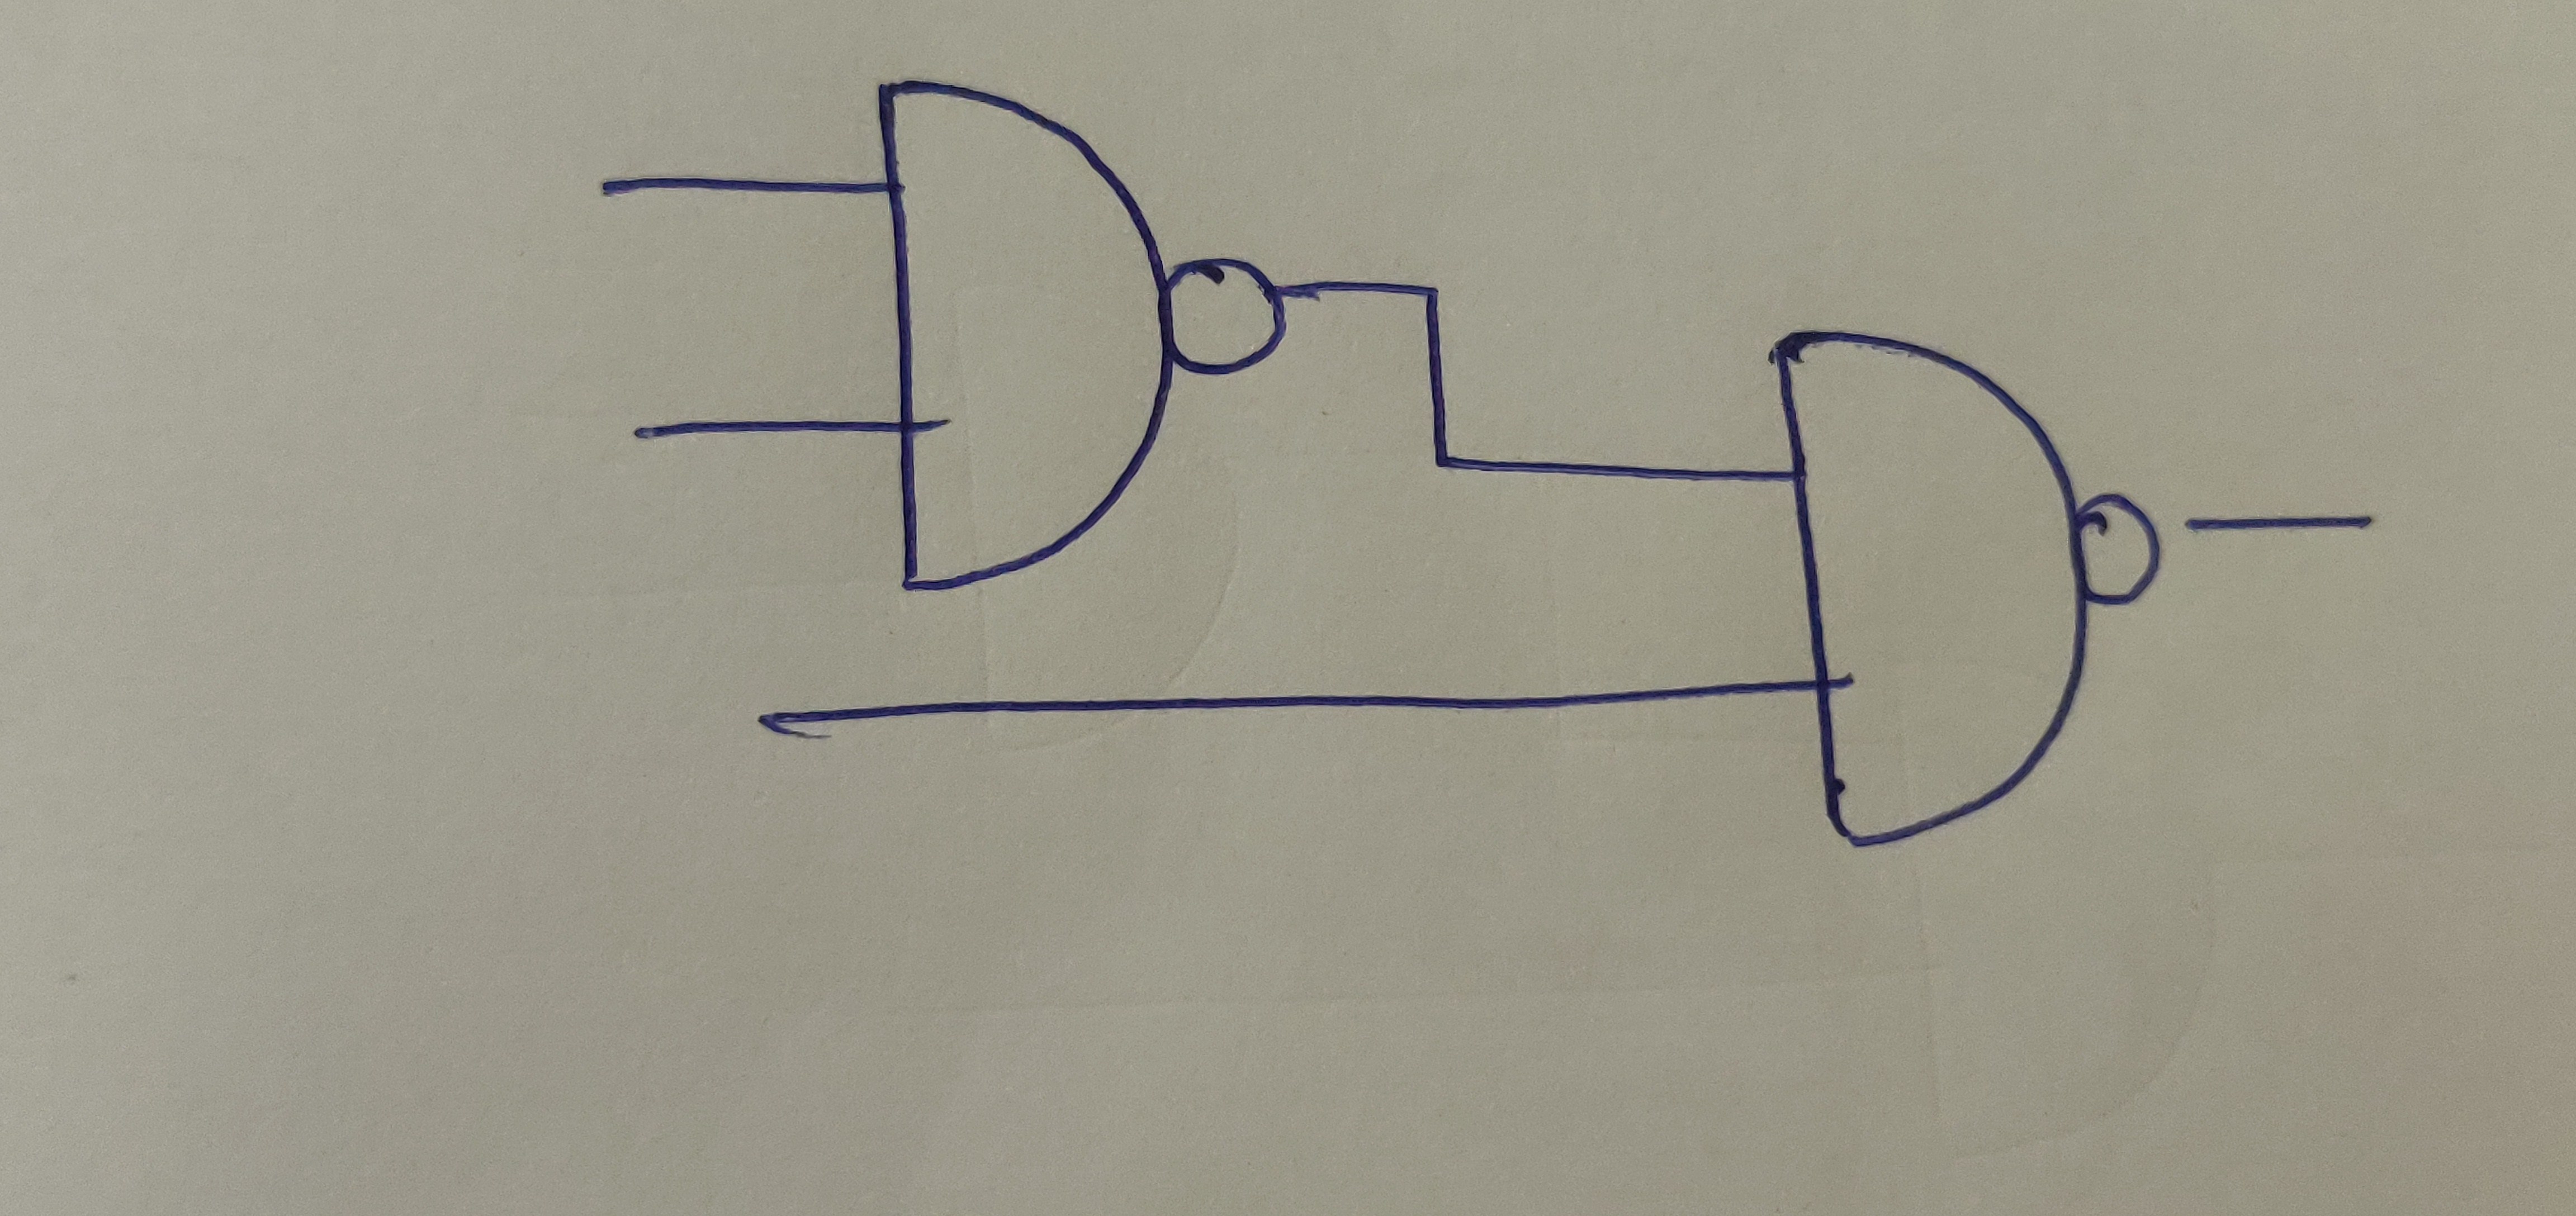and: (1768, 330, 2091, 851), (872, 76, 1175, 593)
not: (1161, 255, 1293, 376), (2067, 488, 2169, 613)
